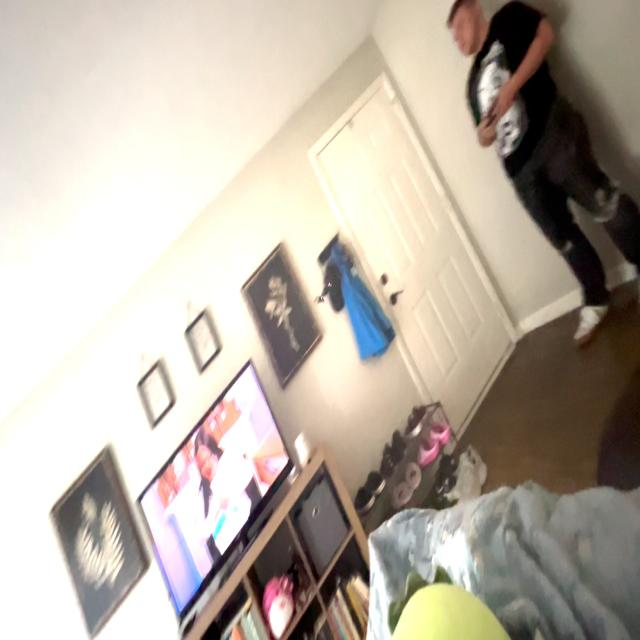drone: (304, 265, 349, 318)
